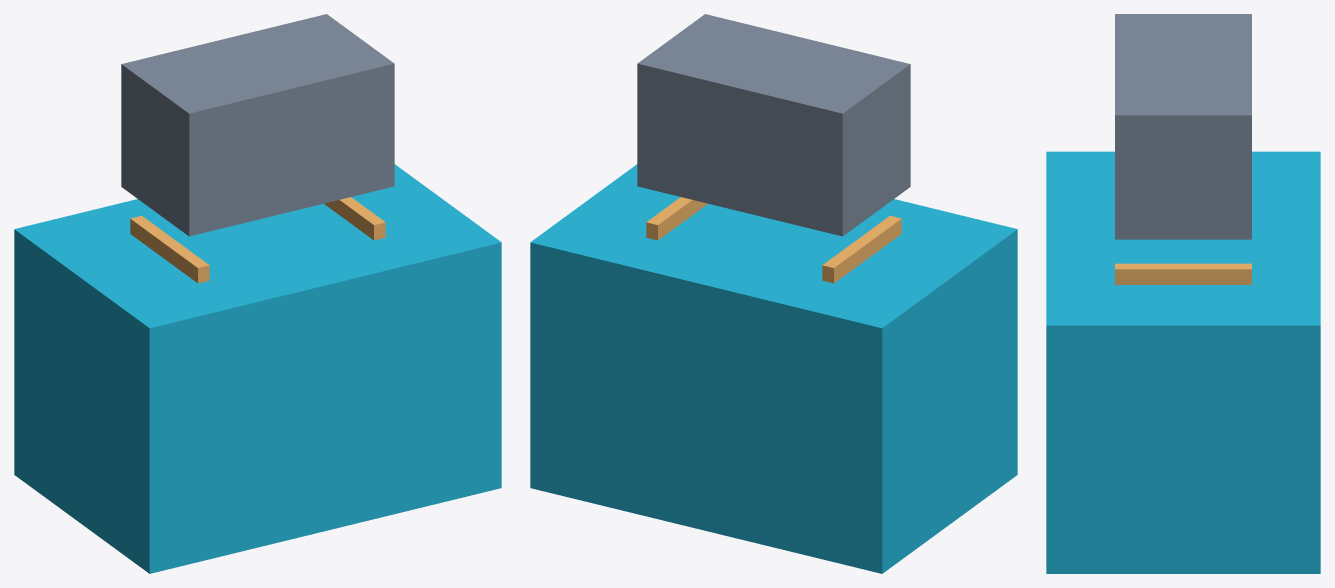
The model's file is faraday_electrolysis_copper_sulfate.glb.
The picture shows the model from 3 angles, left to right: view 1: azimuth 30°, elevation 25°; view 2: azimuth 150°, elevation 25°; view 3: azimuth 270°, elevation 25°; orthographic projection.
Parts seen in each view (by area): view 1: ElectrolyticCopperVoltameterBath, RegulatedDCPowerSupplyAmmeter, PureCopperCathodeDepositionPlate, CopperAnodeElectrodePlate; view 2: ElectrolyticCopperVoltameterBath, RegulatedDCPowerSupplyAmmeter, PureCopperCathodeDepositionPlate, CopperAnodeElectrodePlate; view 3: ElectrolyticCopperVoltameterBath, RegulatedDCPowerSupplyAmmeter, CopperAnodeElectrodePlate.
Part boxes in pixels (box(x1,y1,x2,y2)): ElectrolyticCopperVoltameterBath: box(14, 164, 501, 573); RegulatedDCPowerSupplyAmmeter: box(121, 14, 394, 236); PureCopperCathodeDepositionPlate: box(130, 215, 209, 283); CopperAnodeElectrodePlate: box(324, 197, 385, 240); ElectrolyticCopperVoltameterBath: box(530, 164, 1017, 573); RegulatedDCPowerSupplyAmmeter: box(637, 14, 910, 236); PureCopperCathodeDepositionPlate: box(822, 215, 901, 283); CopperAnodeElectrodePlate: box(646, 197, 707, 240); ElectrolyticCopperVoltameterBath: box(1046, 151, 1320, 573); RegulatedDCPowerSupplyAmmeter: box(1115, 14, 1251, 239); CopperAnodeElectrodePlate: box(1115, 263, 1251, 284).
Size of the model in its own units: 0.6 by 0.68 by 0.4.
